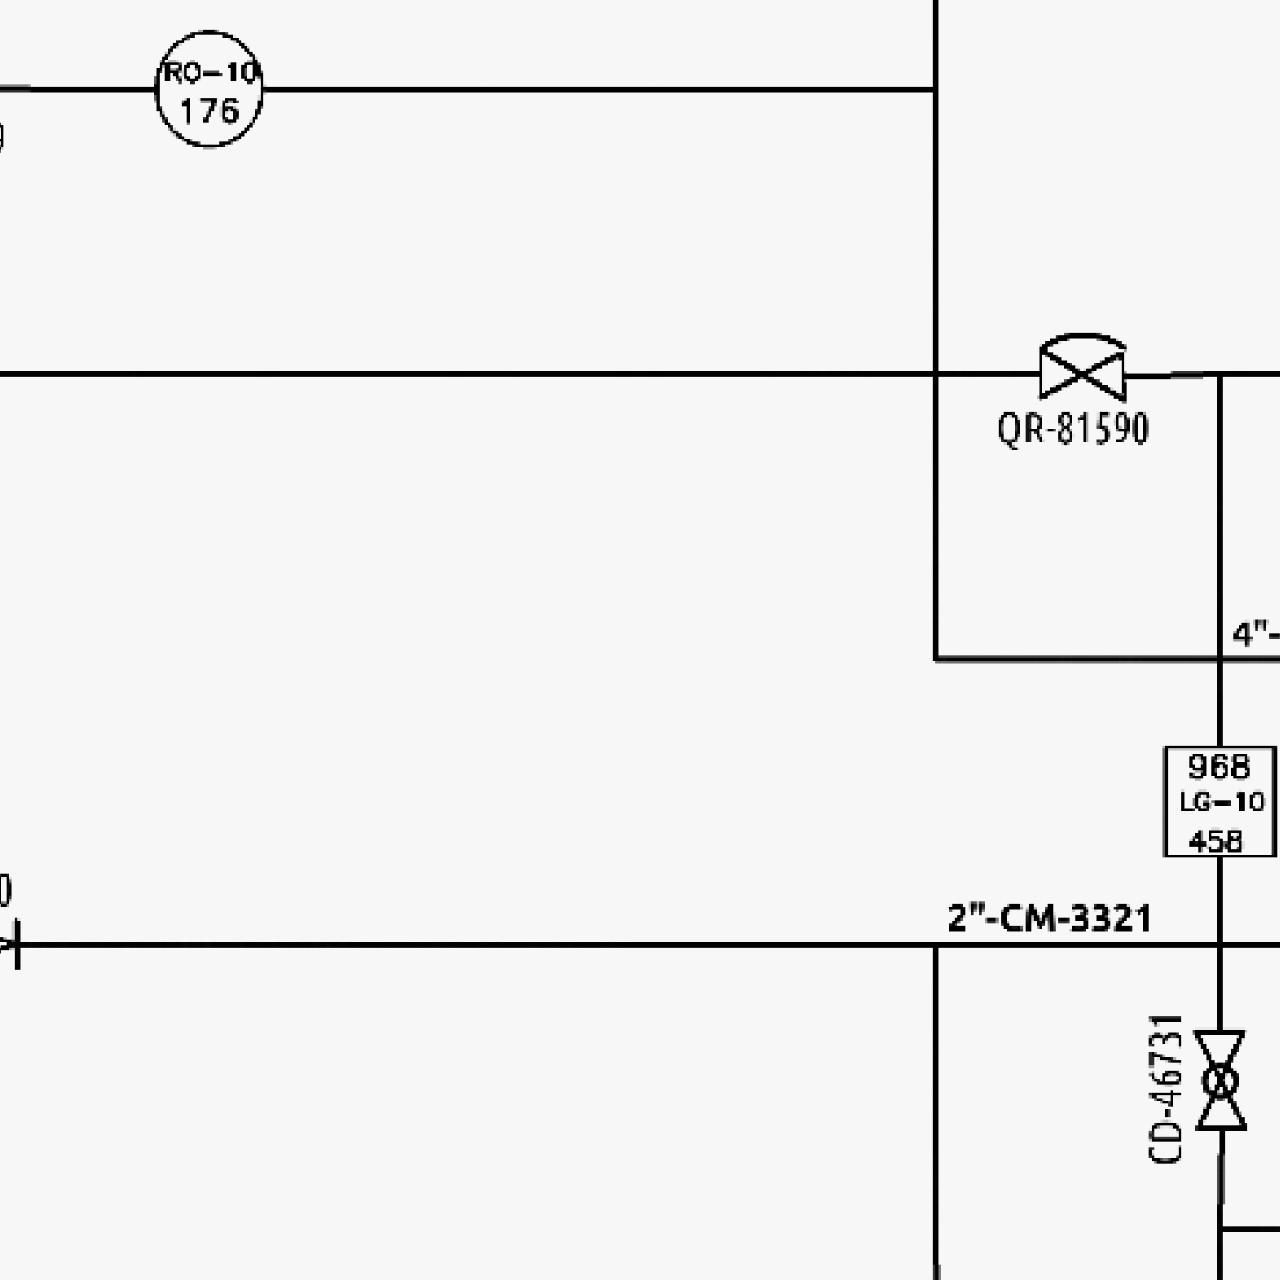Control-Panel: (145, 23, 272, 151)
